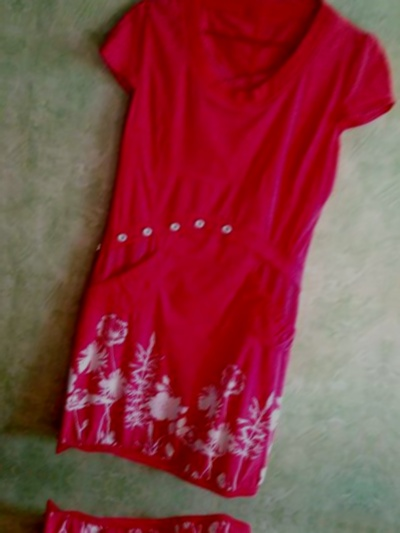Dress: (0, 0, 394, 514), (0, 473, 306, 533), (79, 0, 400, 7)
